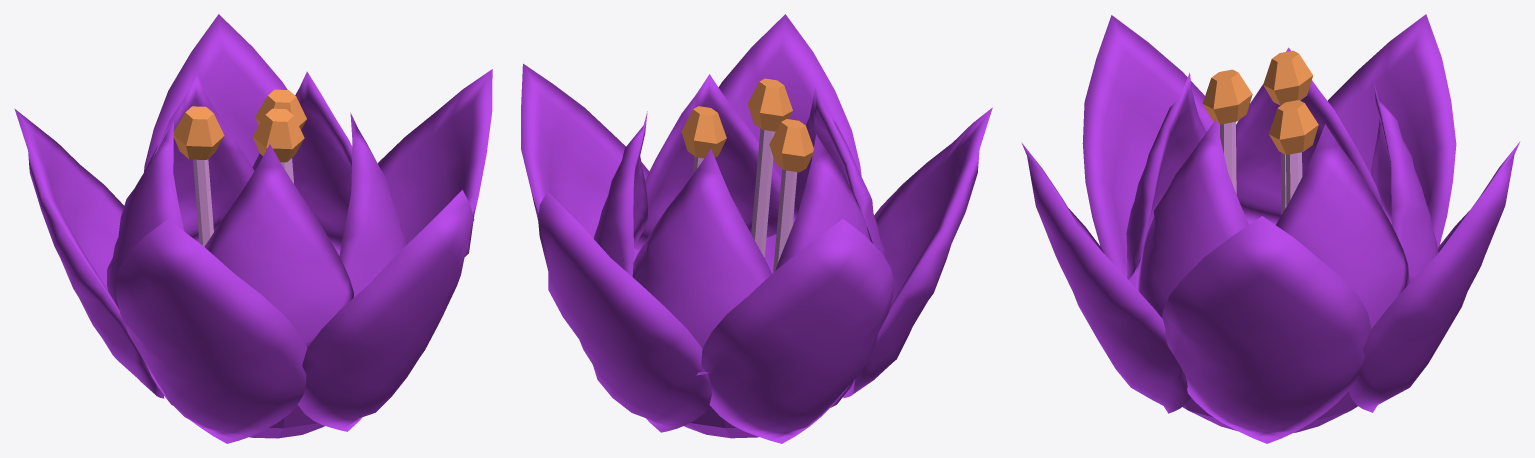
The model's file is Flower 2.fbx.
3 views of the same model, side by side, from view 1: azimuth 30°, elevation 25°; view 2: azimuth 150°, elevation 25°; view 3: azimuth 270°, elevation 25° (orthographic). The views are drawn at different scales.
Parts seen in each view (by area): view 1: Circle.062; view 2: Circle.062; view 3: Circle.062.
Part boxes in pixels (bbox=[...]): Circle.062: bbox=[14, 14, 492, 443]; Circle.062: bbox=[521, 14, 992, 443]; Circle.062: bbox=[1021, 14, 1520, 443].
Bounding box in the file's own units: 2.15 × 1.6 × 2.21.
